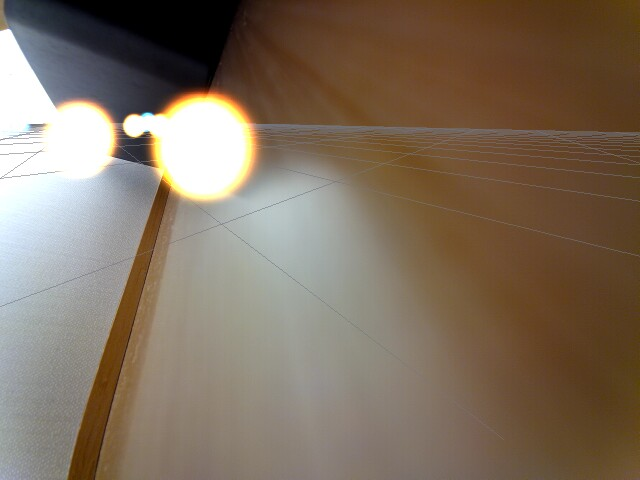firebig: (161, 92, 261, 208)
